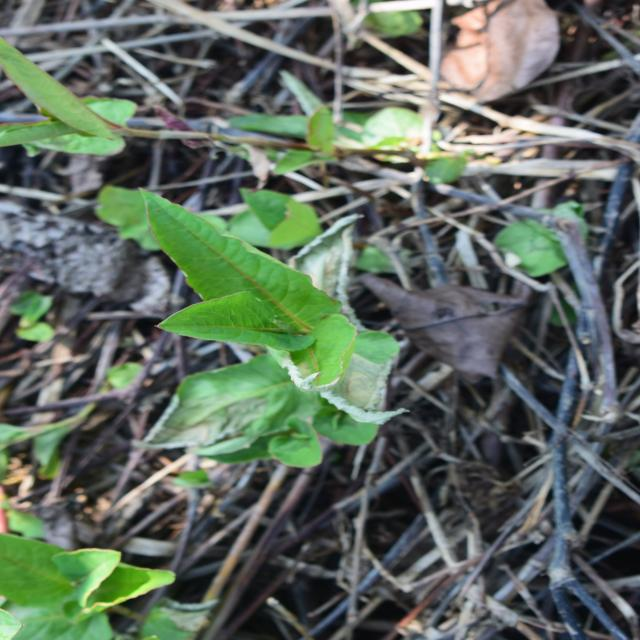Chinese_knotweed: (220, 109, 433, 387)
